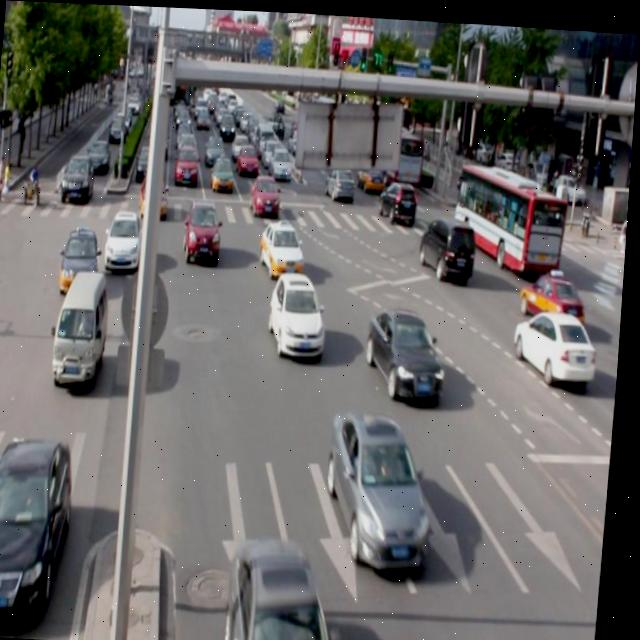car: (328, 403, 443, 568), (0, 429, 82, 619), (231, 530, 353, 640), (367, 301, 452, 398), (515, 301, 603, 379), (270, 266, 333, 357), (520, 262, 590, 326), (419, 212, 478, 278), (185, 194, 227, 263), (261, 216, 309, 273), (106, 205, 145, 269)
truck: (56, 267, 117, 386)
van: (452, 157, 569, 266)
